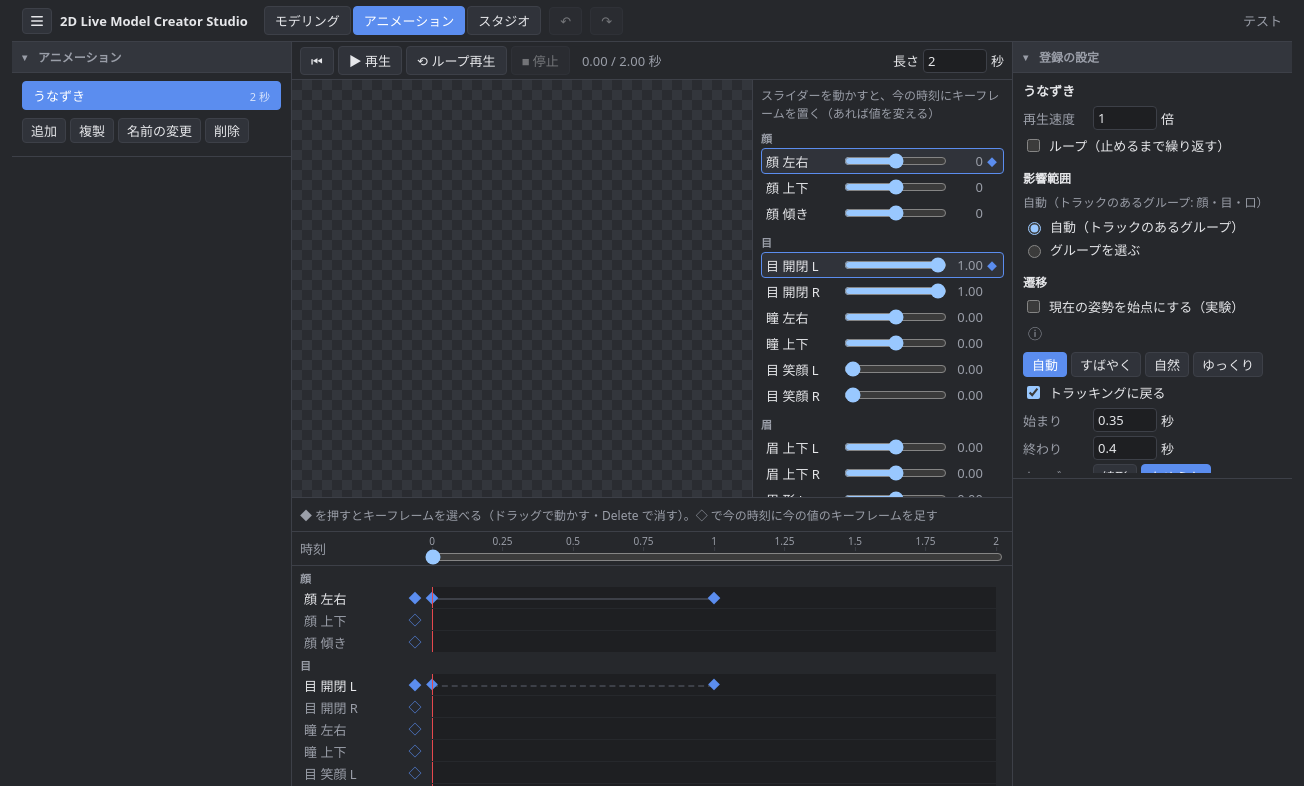
登録の設定 › 影響範囲: 自動からグループごとに選べ、すべて外すと自動
Click the radio button labelled "グループを選ぶ" at (1034, 251), box [1028,244,1041,258]
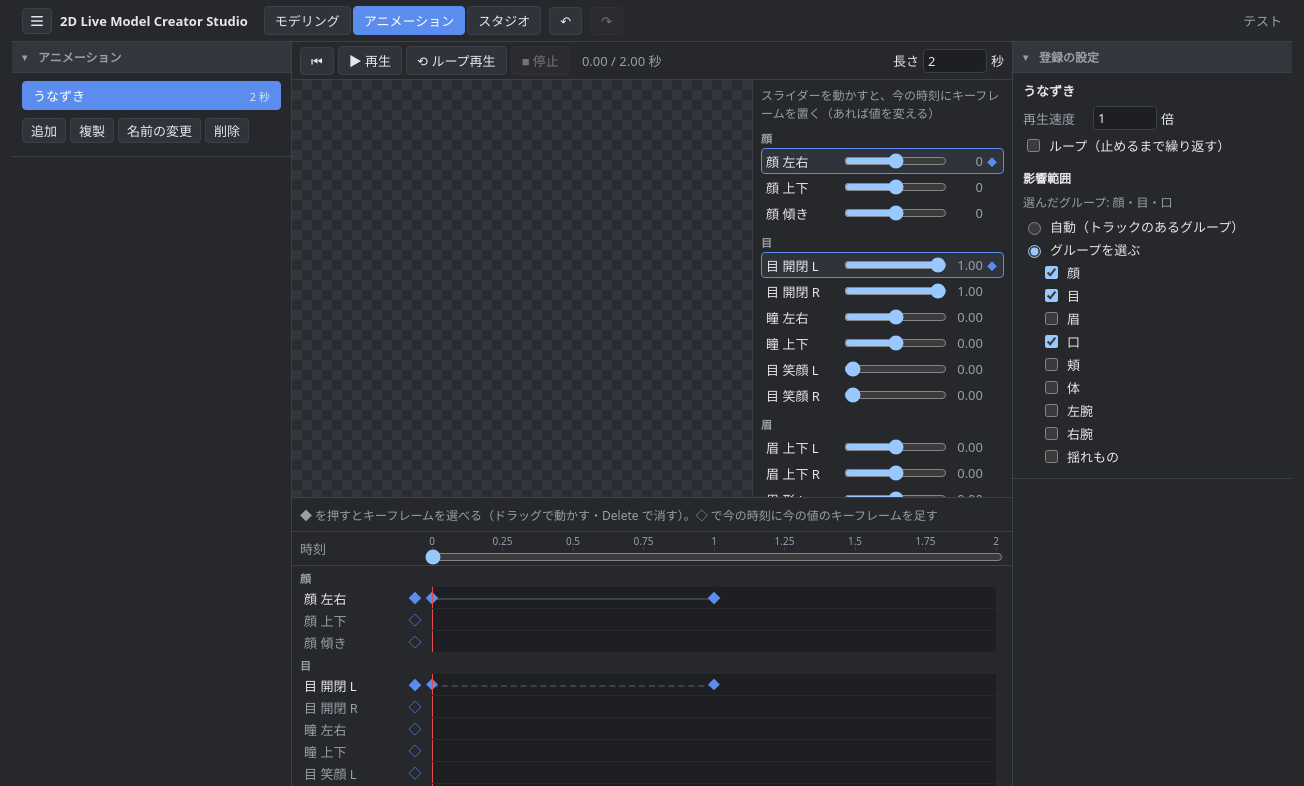
Click the checkbox labelled "目" at (1052, 296), box [1045,289,1058,302]
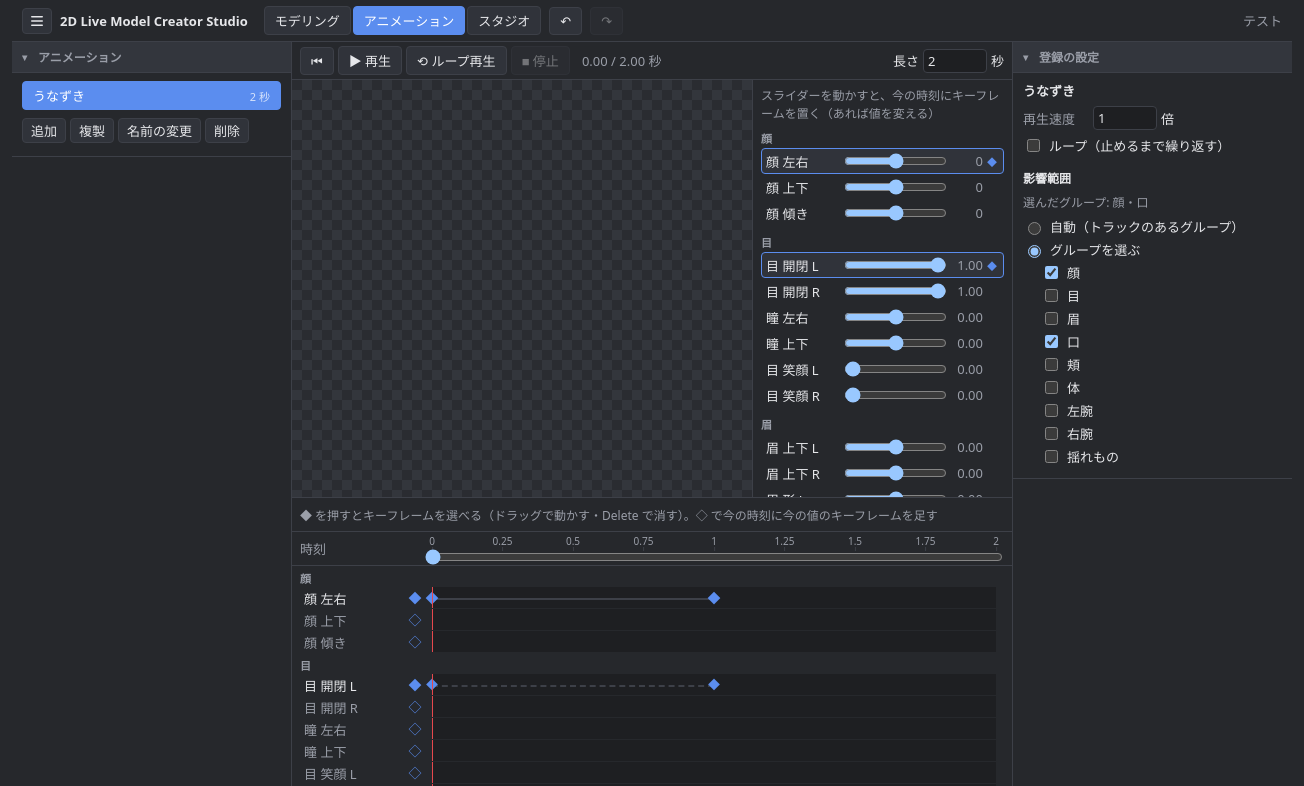
Click the checkbox labelled "体" at (1052, 388), box [1045,381,1058,394]
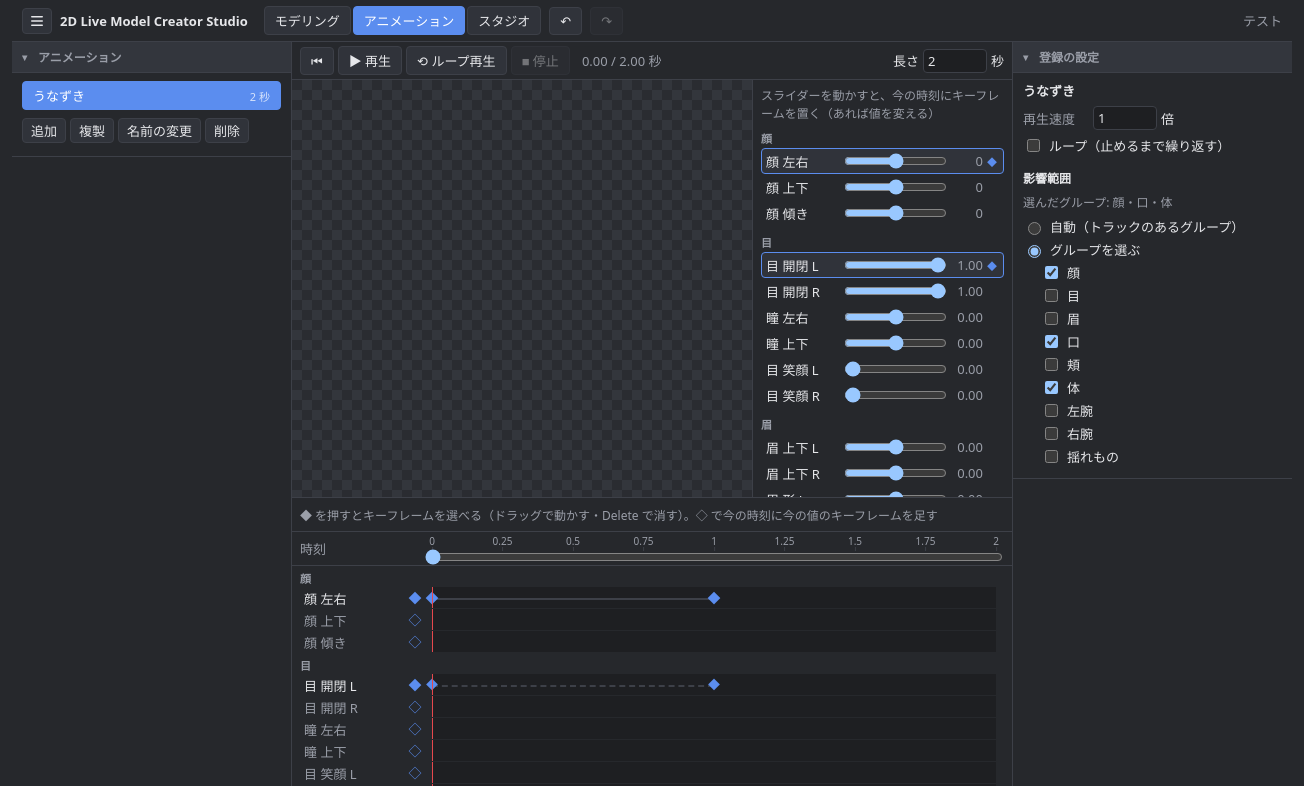
Now the text named "影響範囲の状態" reads "選んだグループ: 顔・口・体", box [1023,194,1173,211]
Click the radio button labelled "自動（トラックのあるグループ）" at (1034, 228), box [1028,222,1041,234]
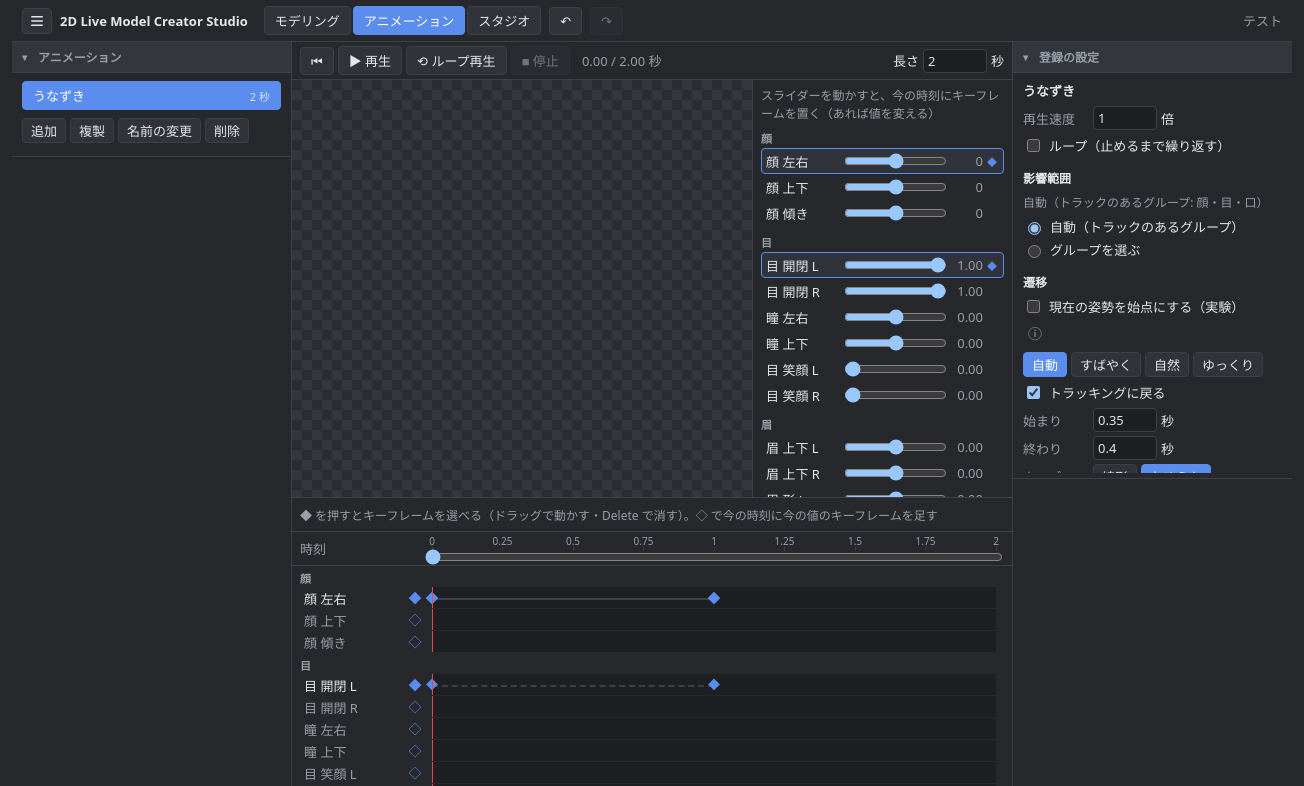
Now the element "影響するグループ" is gone
